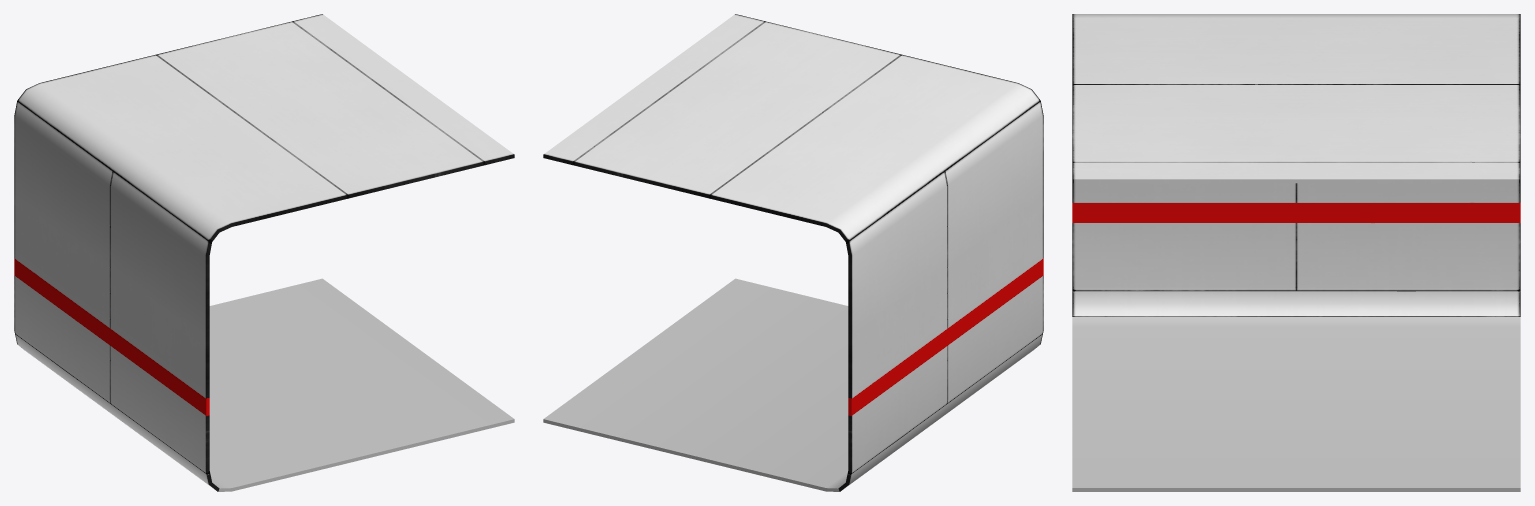
File: Room_Wall_001.FBX
3 renders of one model, left to right at view 1: azimuth 30°, elevation 25°; view 2: azimuth 150°, elevation 25°; view 3: azimuth 270°, elevation 25°, orthographic. The views are drawn at different scales.
Visible parts, largest first — view 1: Room_Wall_001; view 2: Room_Wall_001; view 3: Room_Wall_001.
Boxes of the visible parts, x1,y1,x2,y2 form: Room_Wall_001: (14, 14, 514, 491); Room_Wall_001: (543, 14, 1043, 491); Room_Wall_001: (1072, 14, 1520, 491).
Size of the model in its own units: 2.78 by 2.31 by 3.
